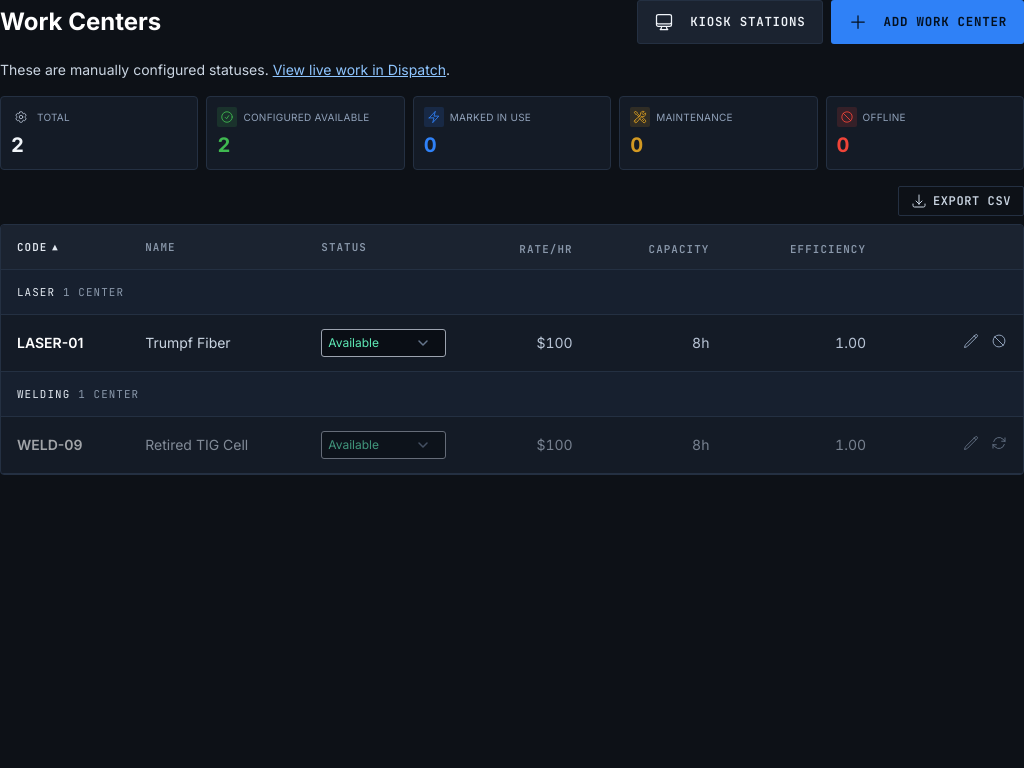
Test case: WorkCenters deactivate / reactivate controls › surfaces a 409 refusal verbatim in an error toast and leaves the row active (no reload, no local flip)
Click the button named "Deactivate LASER-01": x=999, y=341 [991, 333, 1007, 349]
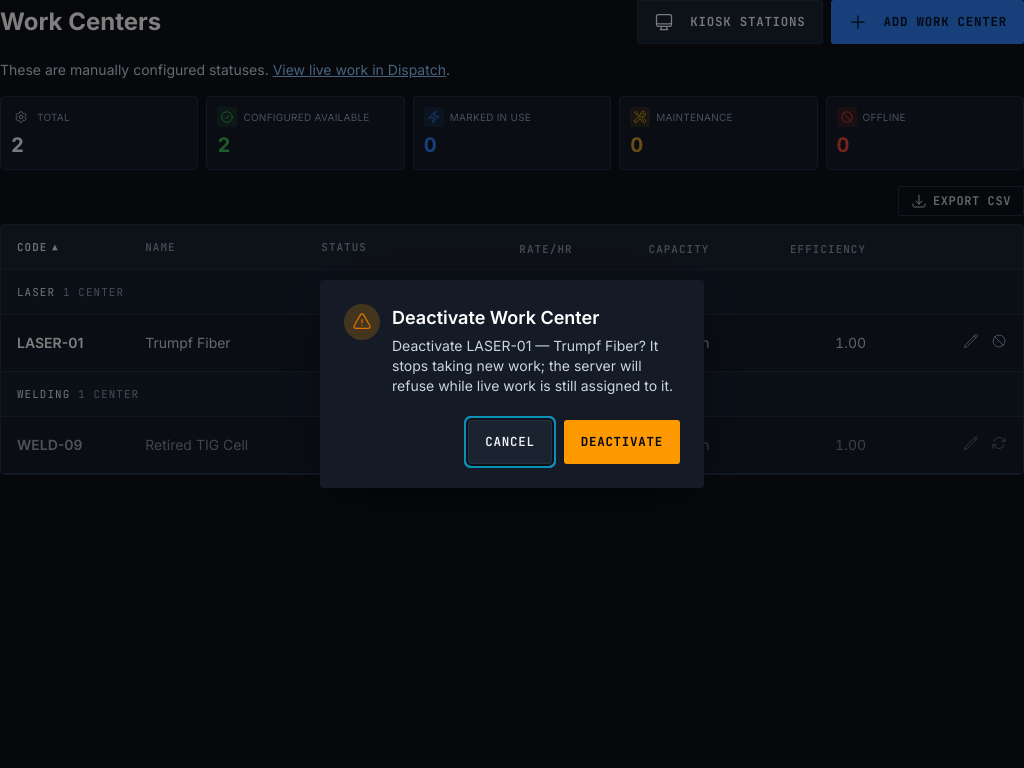
Click the button "Deactivate": x=622, y=442 [564, 420, 680, 464]
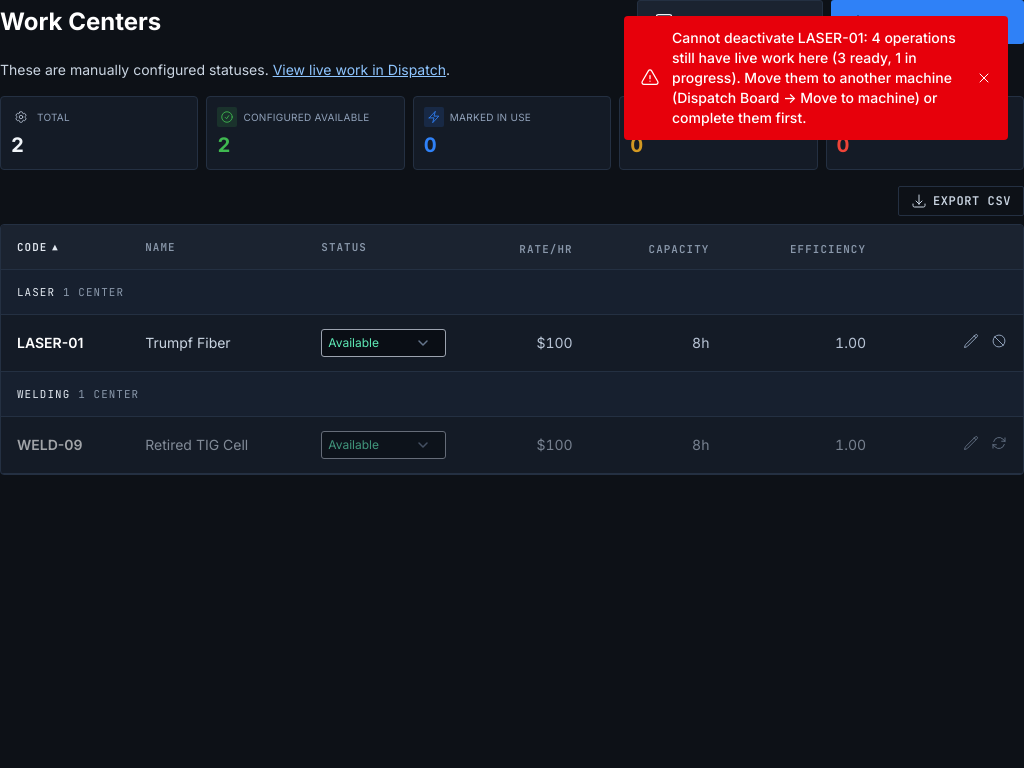
Expected: the button named "Deactivate LASER-01" is shown, [991, 333, 1007, 349]
Result: the dialog is gone
